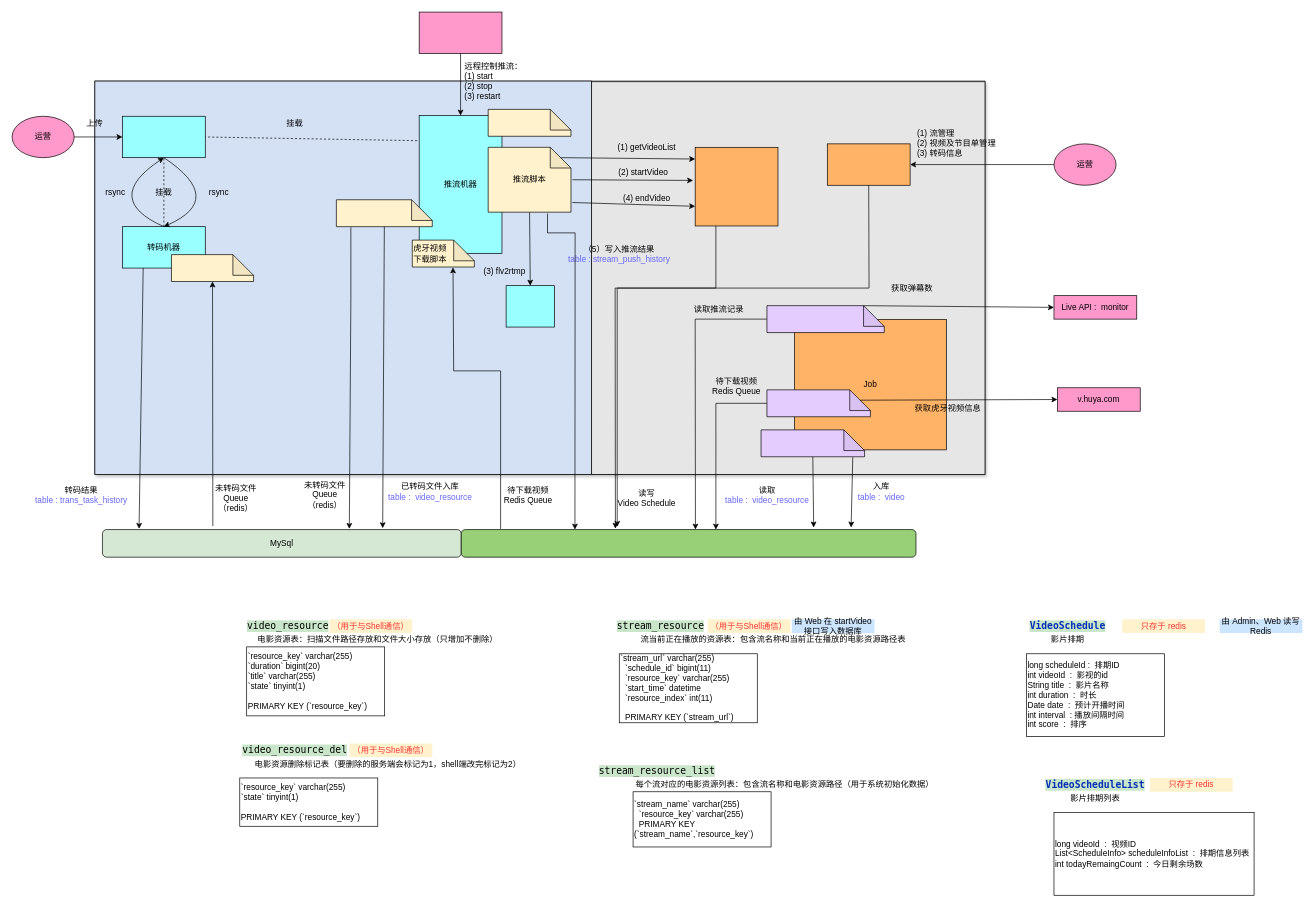
Image size: 1314x907. Some labels were removed from this diagram. The centre of each missing label's shape, as x and y in pixels:
"Admin" goes at pixel 868 164.
"FTP （视频存储）" goes at pixel 163 137.
"Redis" goes at pixel 688 543.
"Web" goes at pixel 736 186.
"扫描文件脚本" goes at pixel 384 213.
"流机器" goes at pixel 529 306.
"流管理脚本" goes at pixel 529 122.
"获取播放记录弹幕数" goes at pixel 825 319.
"虎牙视频加载" goes at pixel 818 403.
"视频资源加载" goes at pixel 812 443.
"跳板机" goes at pixel 460 32.
"转码脚本" goes at pixel 212 268.
